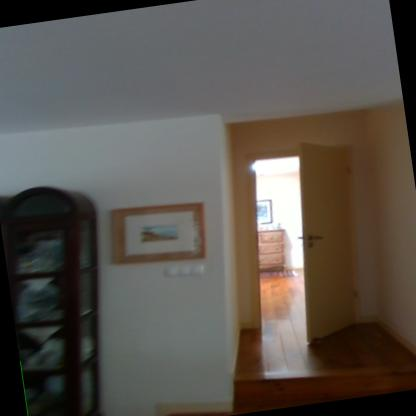semi: (216, 128, 389, 377)
